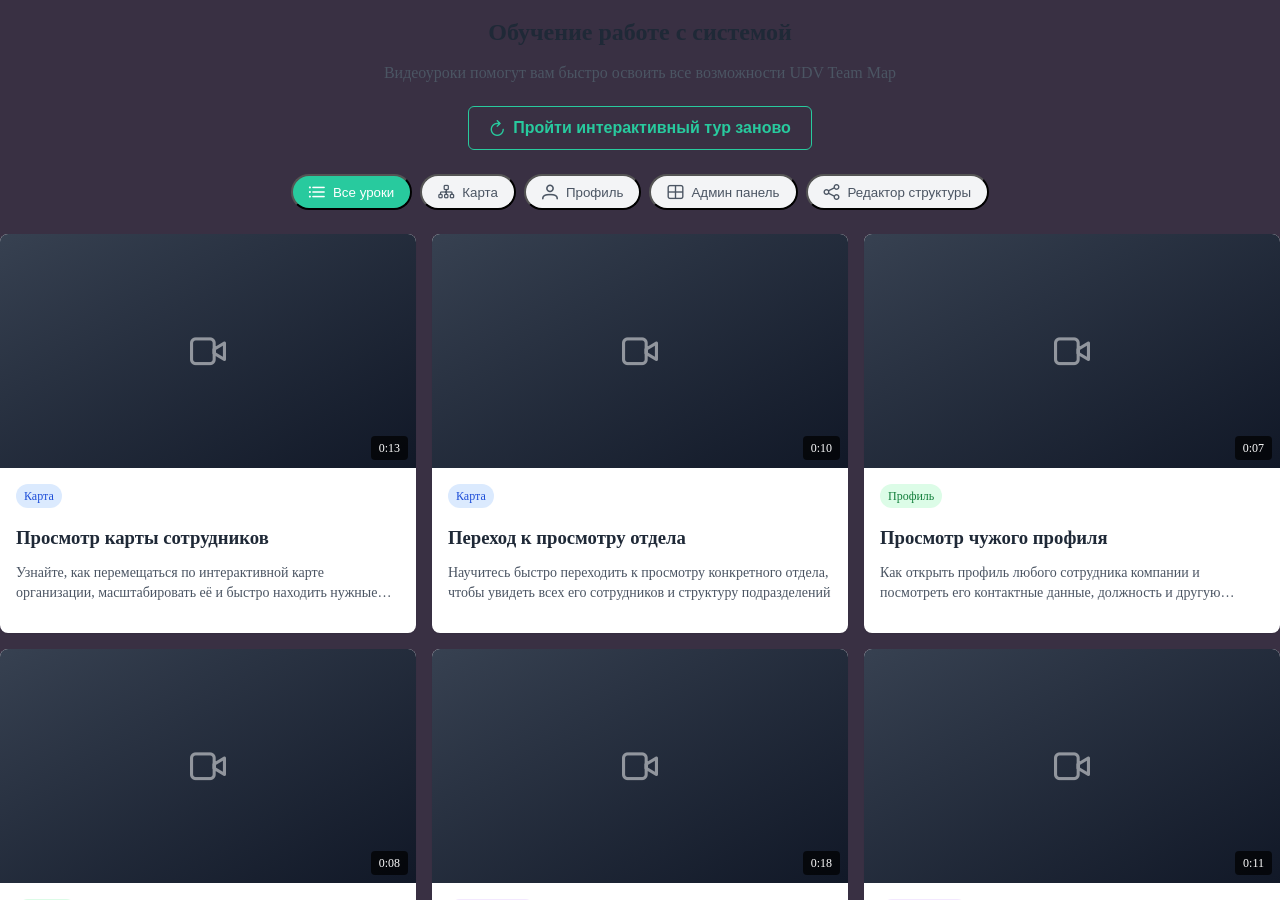
Test case: AboutPage › TrainingContent › shows all lessons when 'Все уроки' clicked
This screenshot has width=1280, height=900.
# First filter by Admin panel
Click the button "Админ панель": x=724, y=192 [650,174,798,210]
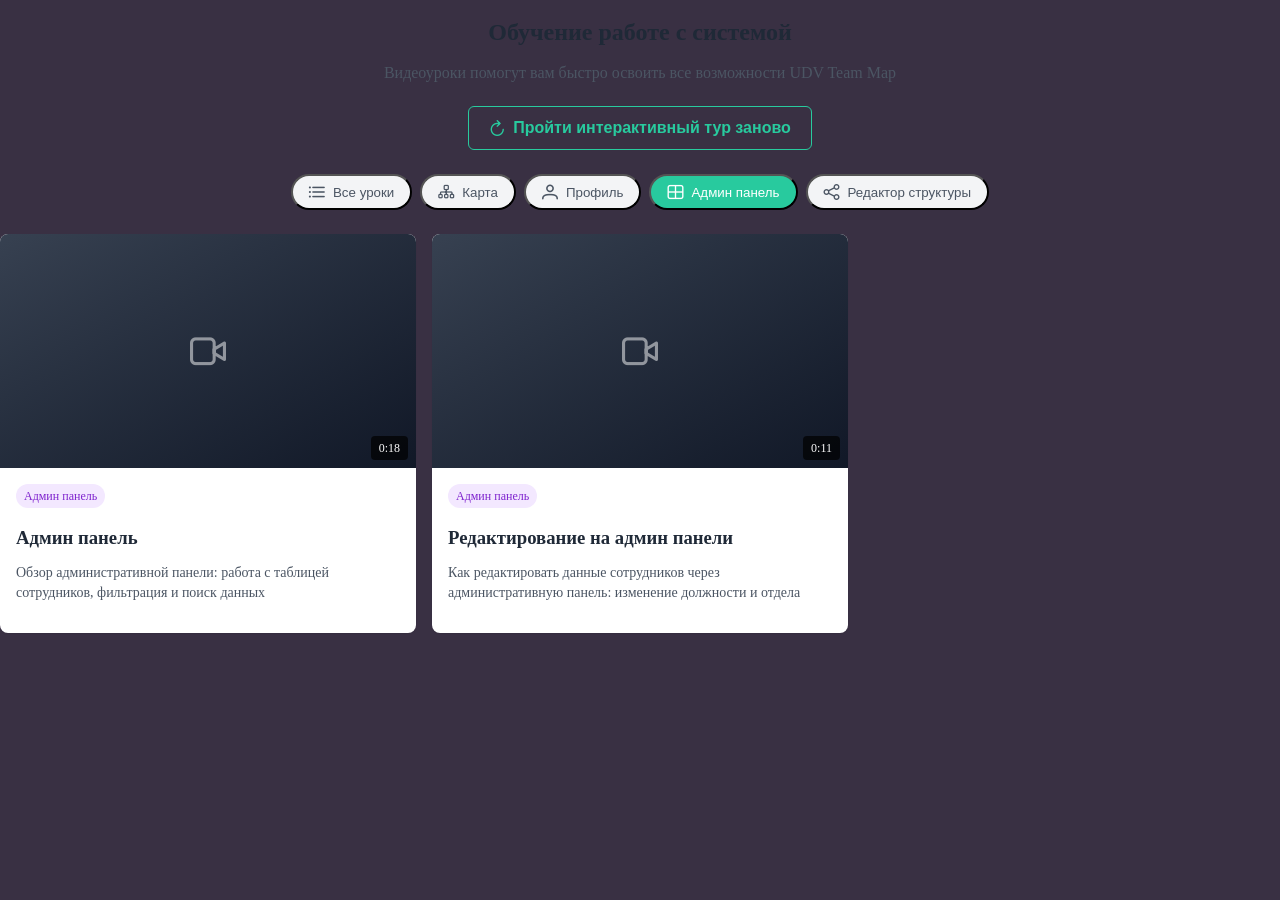
Expected: the heading "Просмотр карты сотрудников" is gone
# Then click all
Click the button "Все уроки": x=352, y=192 [291,174,412,210]
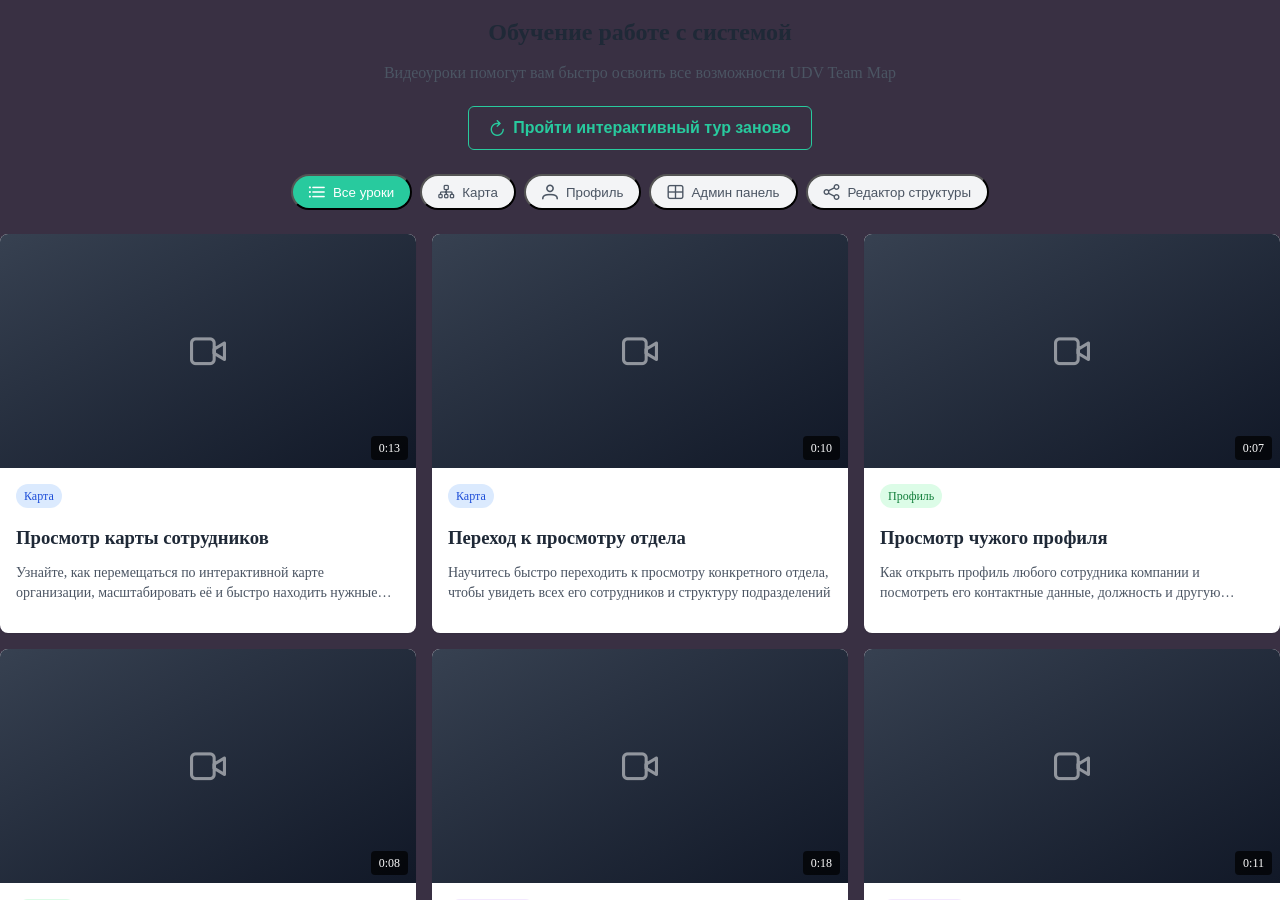
Expected: the heading "Просмотр карты сотрудников" is shown, [16,527,269,548]
